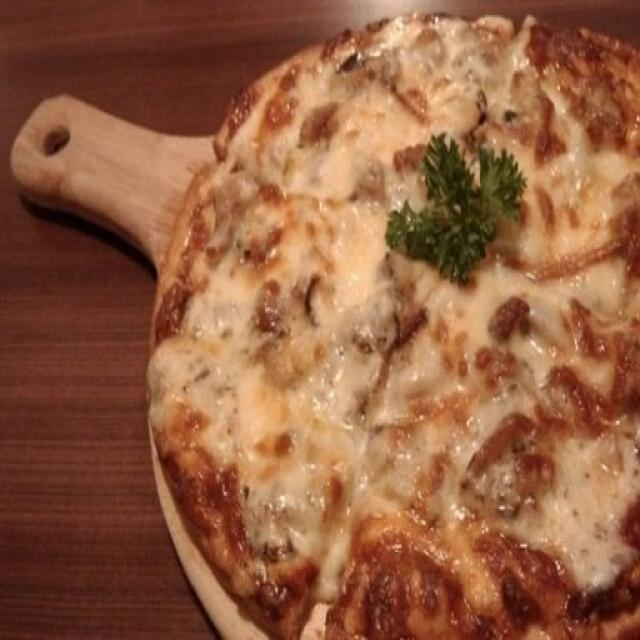Pizza: (143, 18, 640, 640)
Rucola: (400, 136, 517, 280)
